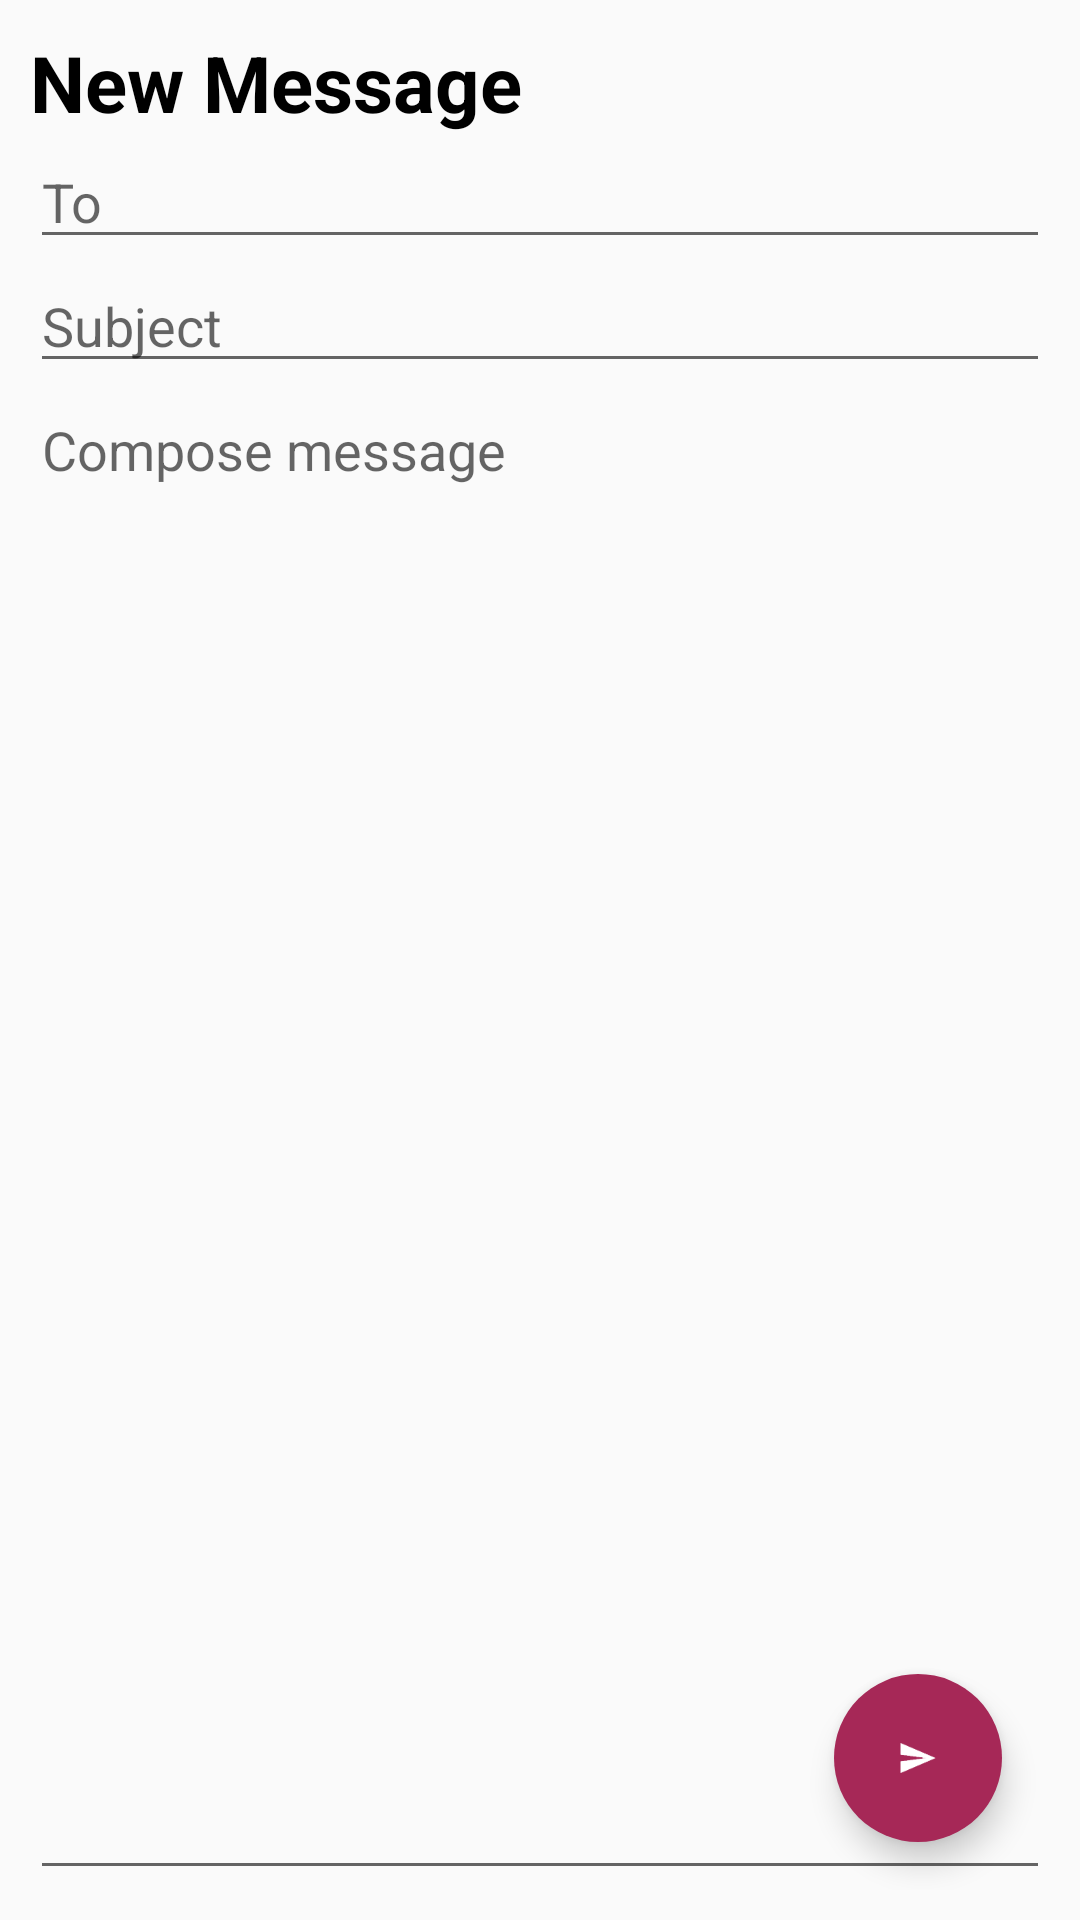

Locate icon controls on the screen. Image size 1080×1920, boxes as (x1, y1, x2, y2).
send: (834, 1674, 1002, 1842)
